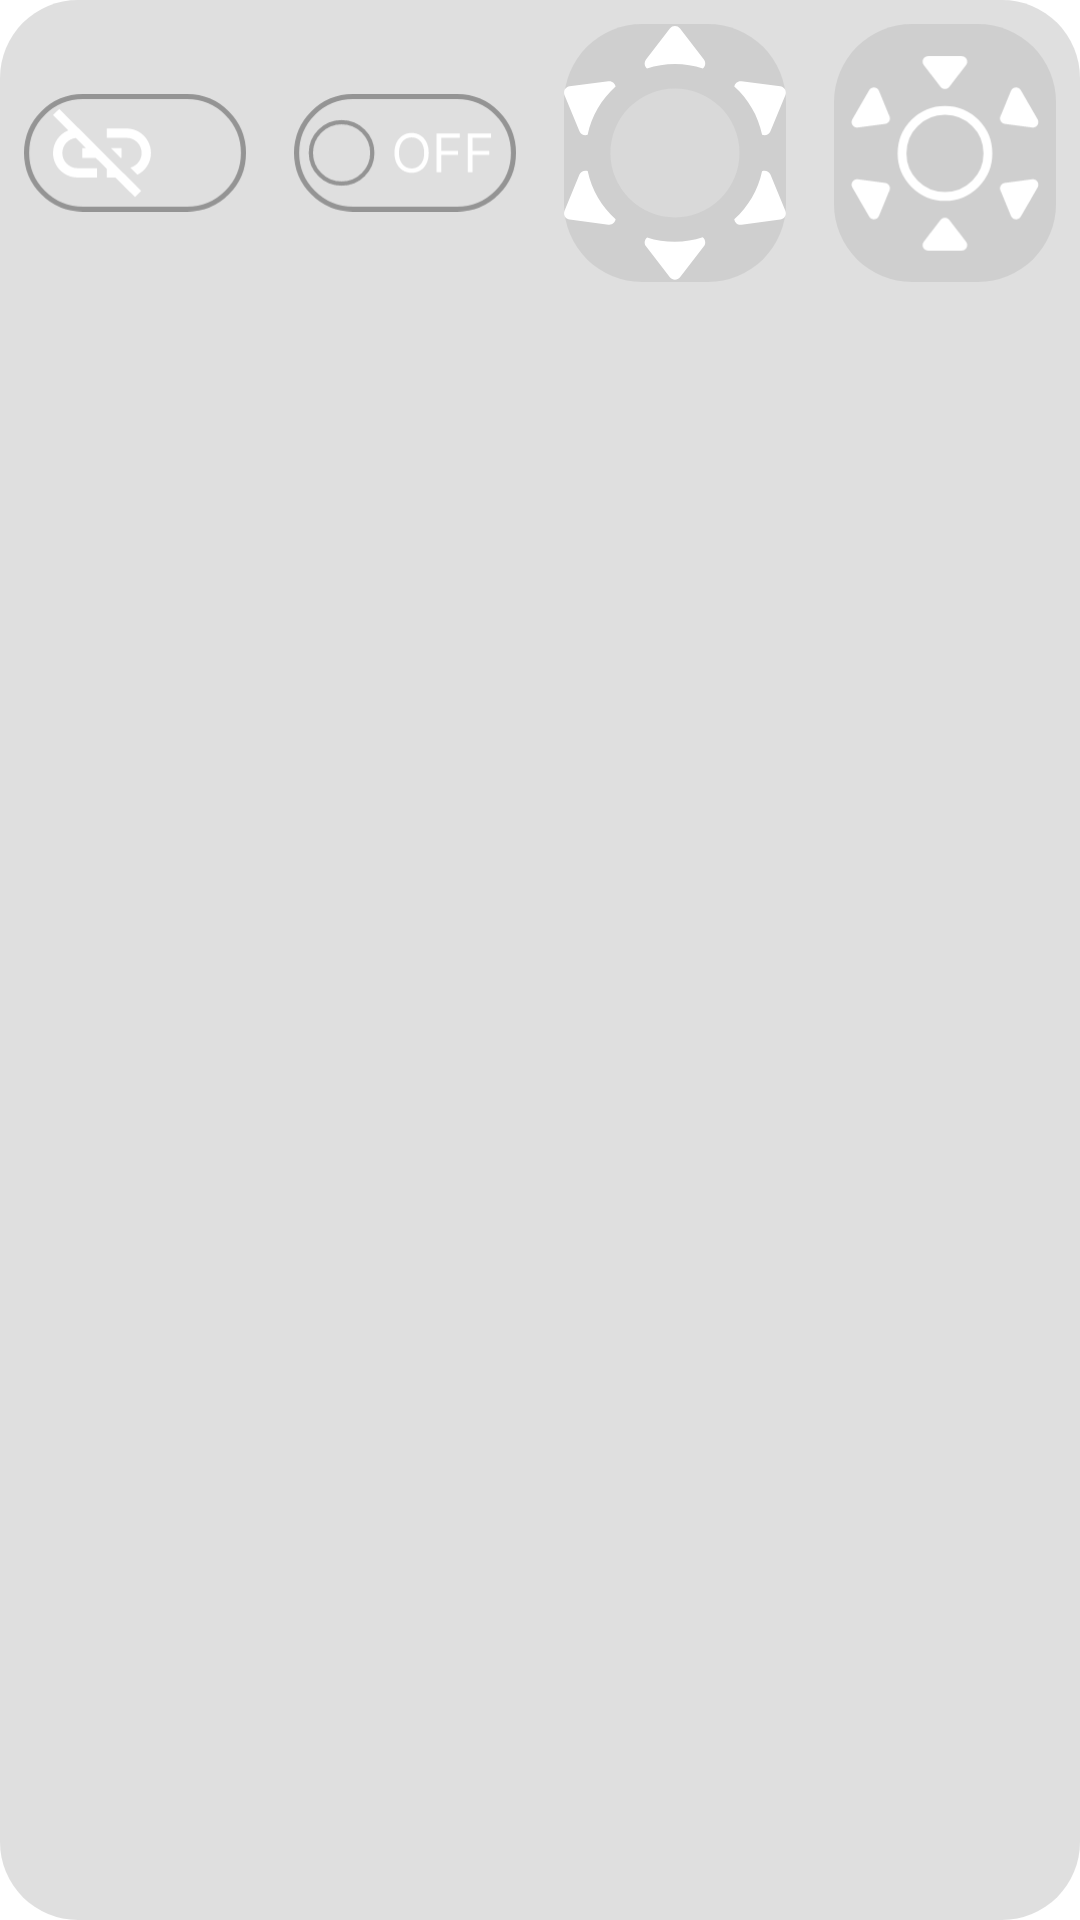

Named icons in this screenshot (1080 x 1920) and their bounding boxes, (x1, y1, x2, y2):
decrease brightness when switched on: (834, 24, 1056, 282)
Dis/-Connect the app from the android alarm clock: (24, 94, 246, 212)
increase brightness when switched on: (564, 26, 786, 279)
Toggle the led light: (294, 94, 516, 212)
